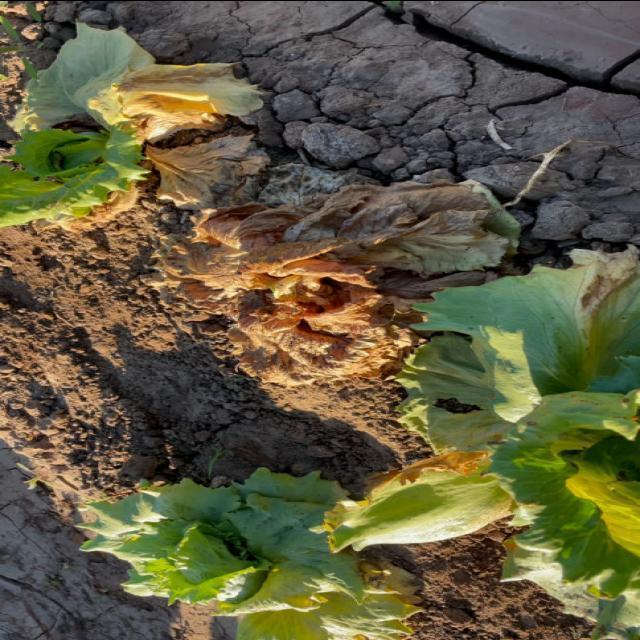Septoria_Blight: (210, 214, 422, 358), (54, 60, 254, 208), (321, 432, 513, 546), (188, 544, 392, 636)
